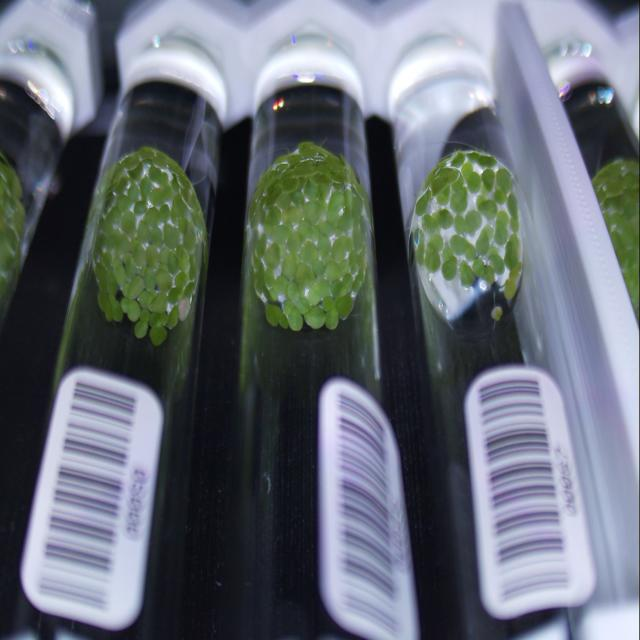Lemna-Gibba: (252, 168, 284, 203), (136, 207, 162, 247), (95, 262, 119, 303), (349, 213, 371, 252), (178, 217, 199, 257), (294, 260, 321, 290), (106, 163, 129, 198), (304, 173, 331, 202), (424, 233, 444, 272), (136, 147, 172, 168), (430, 168, 459, 194), (248, 187, 266, 228), (275, 143, 304, 167), (254, 259, 270, 302), (450, 175, 468, 213), (282, 300, 304, 330), (95, 223, 116, 254), (454, 210, 481, 234), (461, 162, 481, 193), (321, 295, 339, 329), (151, 265, 172, 294), (179, 173, 198, 205), (302, 200, 326, 225), (265, 304, 289, 329), (331, 272, 354, 298), (308, 279, 331, 305), (504, 233, 520, 270), (264, 222, 292, 243), (344, 188, 364, 217), (475, 225, 494, 255), (326, 190, 345, 220), (331, 235, 352, 262), (494, 210, 510, 245), (122, 275, 145, 299), (476, 195, 498, 220), (299, 240, 321, 265), (191, 202, 206, 238), (504, 267, 520, 300), (324, 260, 348, 282), (292, 158, 318, 178), (412, 228, 426, 265), (160, 247, 179, 274), (296, 142, 328, 158), (250, 225, 265, 259), (171, 193, 188, 223), (304, 305, 325, 329), (262, 242, 280, 270), (120, 297, 140, 322), (495, 167, 514, 193), (122, 252, 140, 279), (326, 153, 348, 175), (311, 160, 332, 183), (331, 167, 352, 190), (186, 254, 202, 284), (335, 294, 354, 319), (281, 254, 299, 280), (281, 203, 302, 225), (431, 208, 454, 228), (270, 275, 288, 300), (135, 309, 150, 339), (162, 223, 180, 248), (468, 152, 496, 168), (415, 188, 432, 214), (348, 248, 365, 274), (298, 220, 319, 241), (149, 187, 171, 207), (286, 230, 304, 254), (441, 255, 458, 280), (98, 292, 112, 322), (121, 210, 136, 238), (149, 292, 168, 314), (336, 212, 354, 235), (109, 295, 124, 322), (131, 237, 146, 264), (450, 233, 468, 255), (264, 202, 281, 225), (280, 172, 299, 192), (128, 163, 148, 182), (149, 165, 168, 185), (460, 260, 474, 287), (176, 243, 189, 272), (114, 232, 130, 255), (421, 213, 439, 233), (318, 235, 331, 262), (481, 168, 495, 193), (120, 152, 139, 170), (139, 289, 156, 309), (508, 192, 519, 222), (276, 192, 294, 210), (150, 327, 168, 345), (316, 220, 335, 237), (489, 254, 505, 274), (166, 305, 179, 329), (146, 245, 159, 269), (286, 280, 301, 300), (271, 155, 288, 172), (422, 168, 435, 190), (92, 245, 105, 267), (149, 312, 168, 327), (472, 259, 486, 279), (352, 180, 366, 200), (102, 193, 116, 213), (126, 183, 140, 203), (168, 158, 184, 175), (481, 265, 495, 284), (170, 173, 184, 192), (114, 265, 126, 287), (144, 267, 156, 289), (351, 272, 364, 292), (296, 297, 311, 314), (116, 195, 131, 212), (436, 187, 450, 205), (106, 207, 120, 225), (140, 177, 152, 198), (451, 150, 465, 167), (168, 287, 182, 304), (182, 282, 196, 299), (134, 200, 149, 215), (494, 187, 508, 203), (311, 260, 325, 276), (175, 272, 188, 289), (264, 269, 275, 289), (442, 245, 454, 262), (160, 203, 170, 223), (196, 233, 206, 253), (344, 165, 355, 183), (102, 255, 117, 268), (491, 305, 502, 322), (465, 243, 476, 260), (292, 190, 304, 204), (434, 160, 446, 173), (510, 217, 520, 232), (299, 177, 310, 190), (111, 257, 121, 270), (118, 264, 125, 282), (279, 243, 286, 259), (282, 193, 295, 200), (336, 182, 345, 191), (265, 198, 274, 207), (139, 255, 145, 267), (324, 152, 332, 159), (295, 190, 302, 197), (140, 237, 146, 243), (431, 190, 434, 195)
